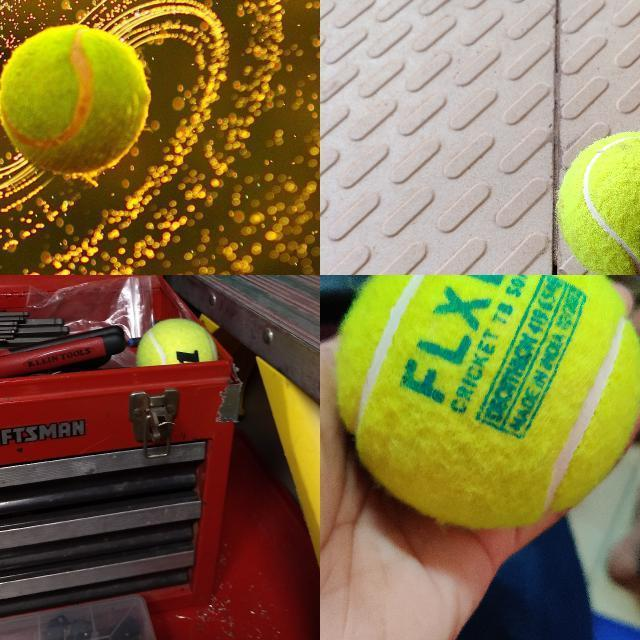tennis-ball: (336, 275, 639, 528), (0, 25, 150, 174), (558, 132, 639, 274), (136, 318, 219, 358)
